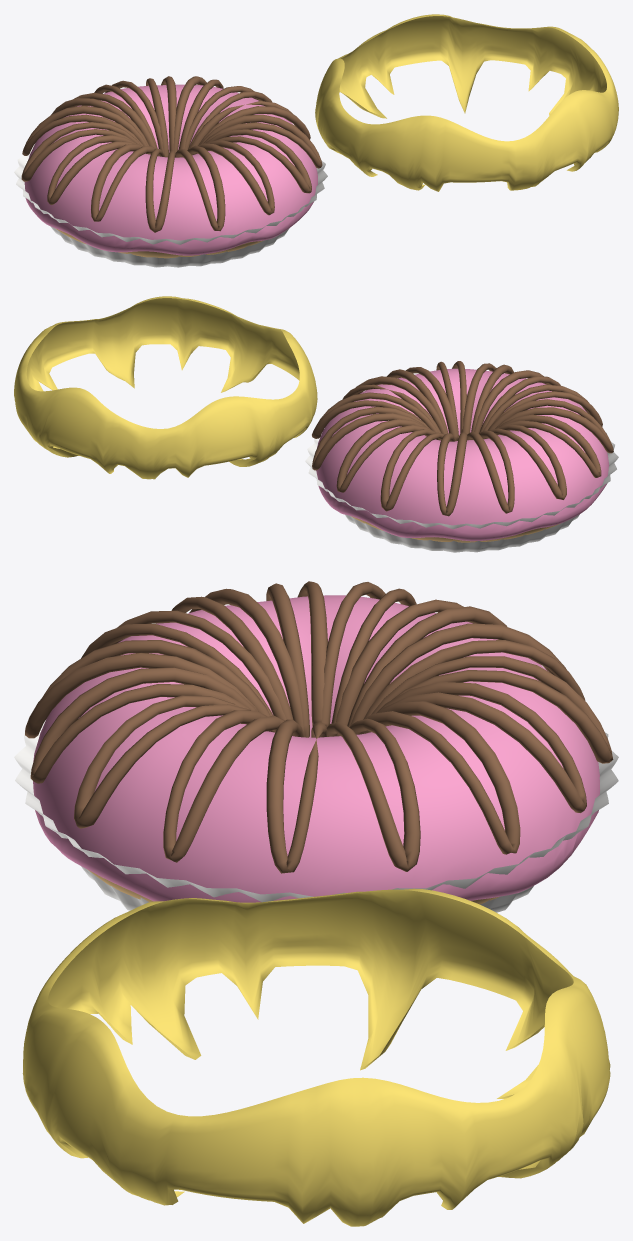
The model's file is donut.glb.
3 views of the same model, one above another, from view 1: azimuth 30°, elevation 25°; view 2: azimuth 150°, elevation 25°; view 3: azimuth 270°, elevation 25° (orthographic). The views are drawn at different scales.
Visible parts, largest first — view 1: honey_drip, glaze, drizzle, donut_liner, donut_base; view 2: honey_drip, glaze, drizzle, donut_liner, donut_base; view 3: honey_drip, drizzle, glaze, donut_liner.
Part boxes in pixels (left/top/right/bottom): honey_drip: left=315, top=14, right=618, bottom=191; glaze: left=24, top=84, right=317, bottom=255; drizzle: left=21, top=76, right=322, bottom=232; donut_liner: left=14, top=144, right=327, bottom=267; donut_base: left=55, top=228, right=263, bottom=258; honey_drip: left=14, top=296, right=317, bottom=479; glaze: left=316, top=368, right=609, bottom=541; drizzle: left=312, top=361, right=613, bottom=516; donut_liner: left=305, top=432, right=618, bottom=552; donut_base: left=351, top=516, right=560, bottom=542; honey_drip: left=22, top=888, right=610, bottom=1226; drizzle: left=25, top=581, right=613, bottom=873; glaze: left=33, top=595, right=600, bottom=902; donut_liner: left=14, top=720, right=618, bottom=912.
Bounding box in the file's own units: 4.57 × 0.8027 × 2.2.
